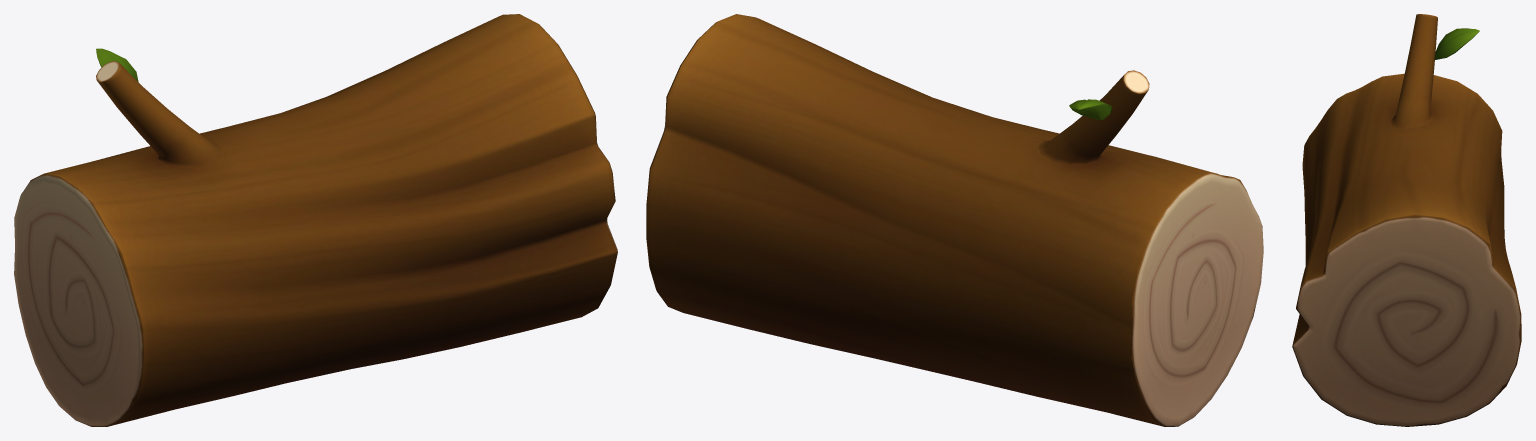
File: Item.fbx
3 views of the same model, side by side, from view 1: azimuth 30°, elevation 25°; view 2: azimuth 150°, elevation 25°; view 3: azimuth 270°, elevation 25° (orthographic). The views are drawn at different scales.
Visible parts, largest first — view 1: item; view 2: item; view 3: item.
Part boxes in pixels (x1=…): item: x1=14, y1=14, x2=617, y2=426; item: x1=646, y1=14, x2=1263, y2=426; item: x1=1292, y1=14, x2=1521, y2=426.
Bounding box in the file's own units: 8.05 × 5.52 × 4.4.
